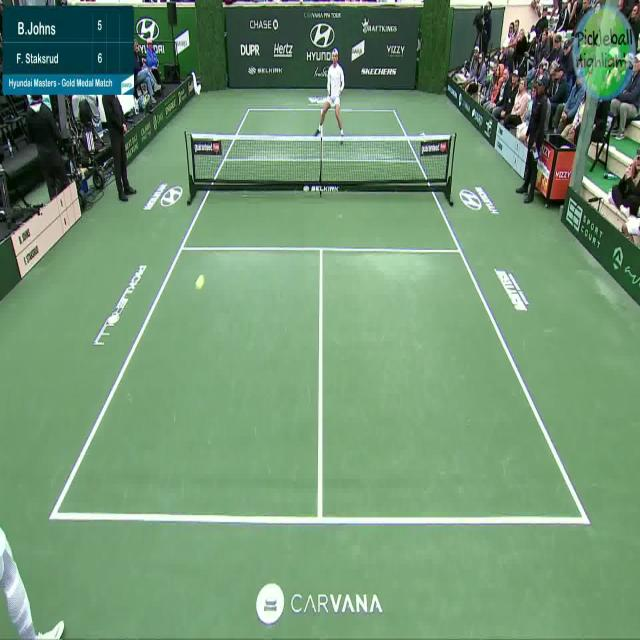ball: (194, 270, 206, 295)
